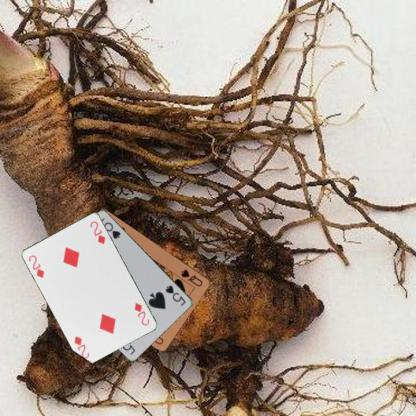2d: (26, 253, 46, 279), (132, 300, 151, 327)
5s: (163, 283, 187, 308)
Qs: (178, 267, 204, 288)
